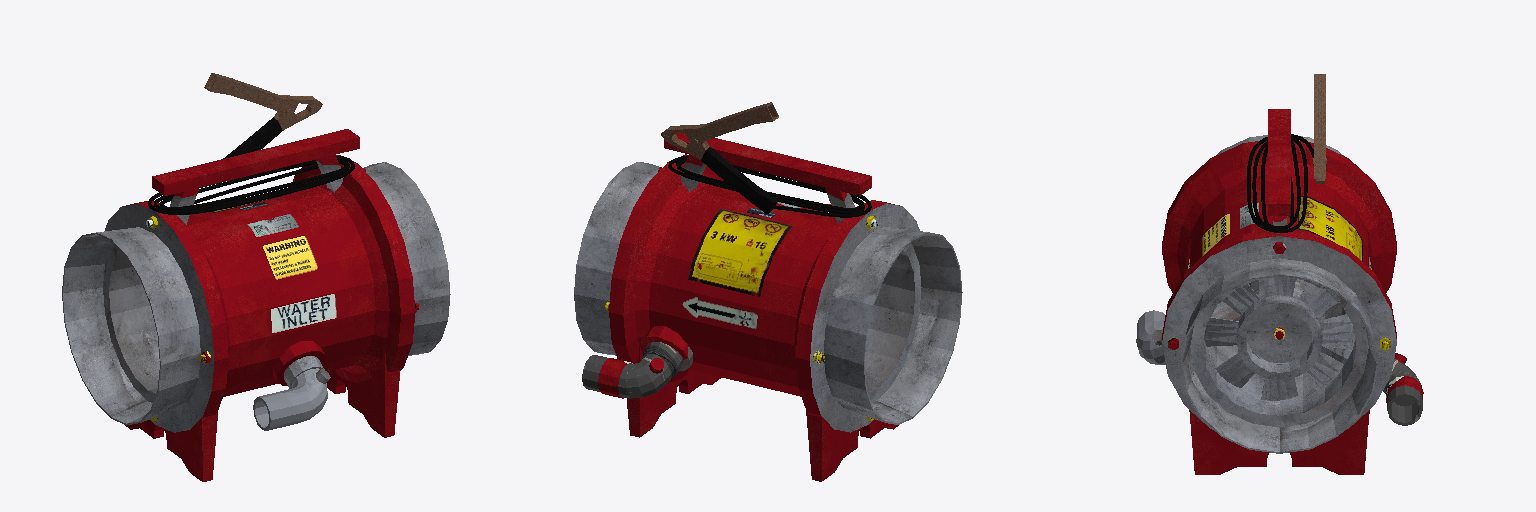
3 renders of one model, left to right at view 1: azimuth 30°, elevation 25°; view 2: azimuth 150°, elevation 25°; view 3: azimuth 270°, elevation 25°, orthographic.
Parts seen in each view (by area): view 1: pCylinder25_Untitled, extrudedSurface1_Untitled.001, pCylinder28_Untitled.002; view 2: pCylinder25_Untitled, pCylinder28_Untitled.002, extrudedSurface1_Untitled.001; view 3: pCylinder25_Untitled, extrudedSurface1_Untitled.001, pCylinder28_Untitled.002.
Part boxes in pixels (x1,y1,x2,y2): pCylinder25_Untitled: (62,129,450,481); extrudedSurface1_Untitled.001: (148,156,354,214); pCylinder28_Untitled.002: (204,73,322,183); pCylinder25_Untitled: (574,133,962,481); pCylinder28_Untitled.002: (661,102,778,213); extrudedSurface1_Untitled.001: (668,156,871,217); pCylinder25_Untitled: (1136,109,1423,474); extrudedSurface1_Untitled.001: (1247,134,1313,232); pCylinder28_Untitled.002: (1313,74,1326,183).
Size of the model in its own units: 2.44 by 2.77 by 2.09.
Materials: 2 (1 with a texture image).